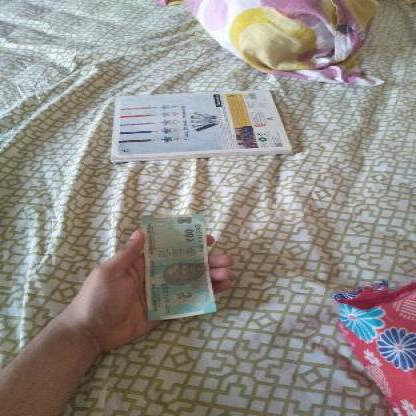New50Front: (144, 213, 214, 318)
